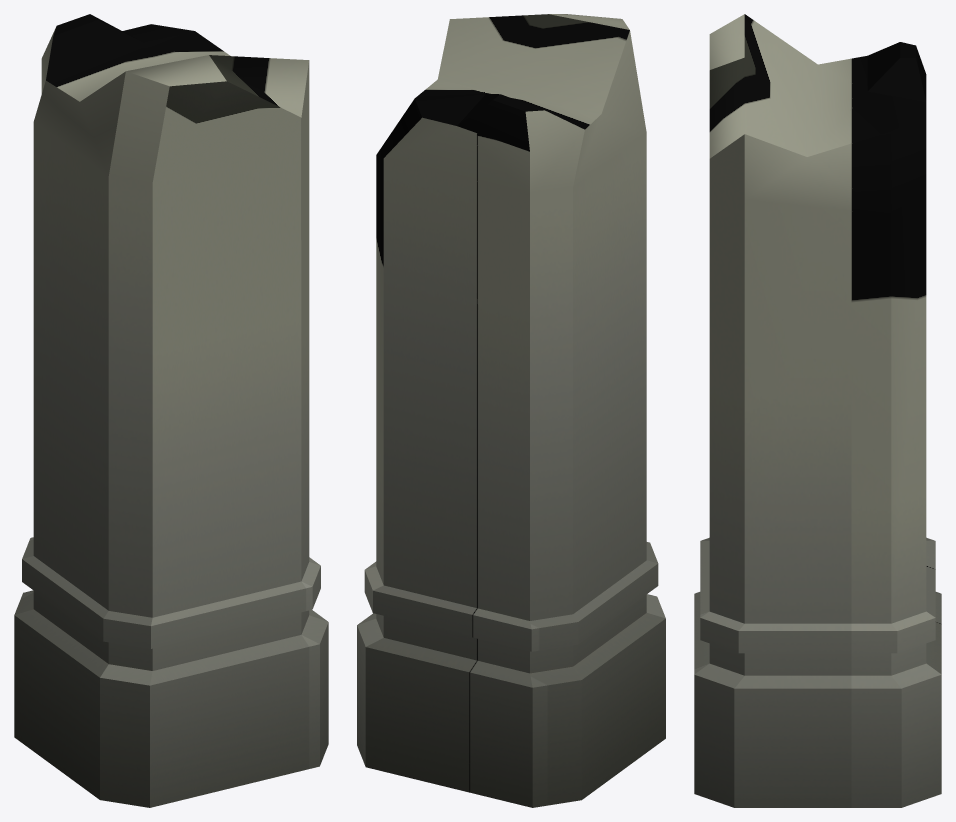
Rendered from ruin03.fbx.
3 views of the same model, side by side, from view 1: azimuth 30°, elevation 25°; view 2: azimuth 150°, elevation 25°; view 3: azimuth 270°, elevation 25° (orthographic). The views are drawn at different scales.
Parts seen in each view (by area): view 1: ruin03; view 2: ruin03; view 3: ruin03.
Boxes of the visible parts, left/top/right/bottom form: ruin03: left=14, top=14, right=328, bottom=807; ruin03: left=357, top=14, right=665, bottom=807; ruin03: left=694, top=14, right=941, bottom=807.
Bounding box in the file's own units: 1.34 × 4.05 × 1.29.
